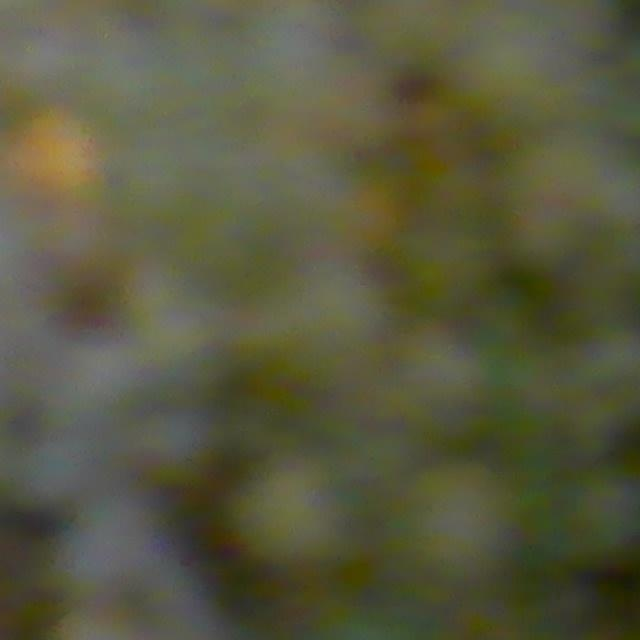SeaGrape: (225, 456, 351, 572)
